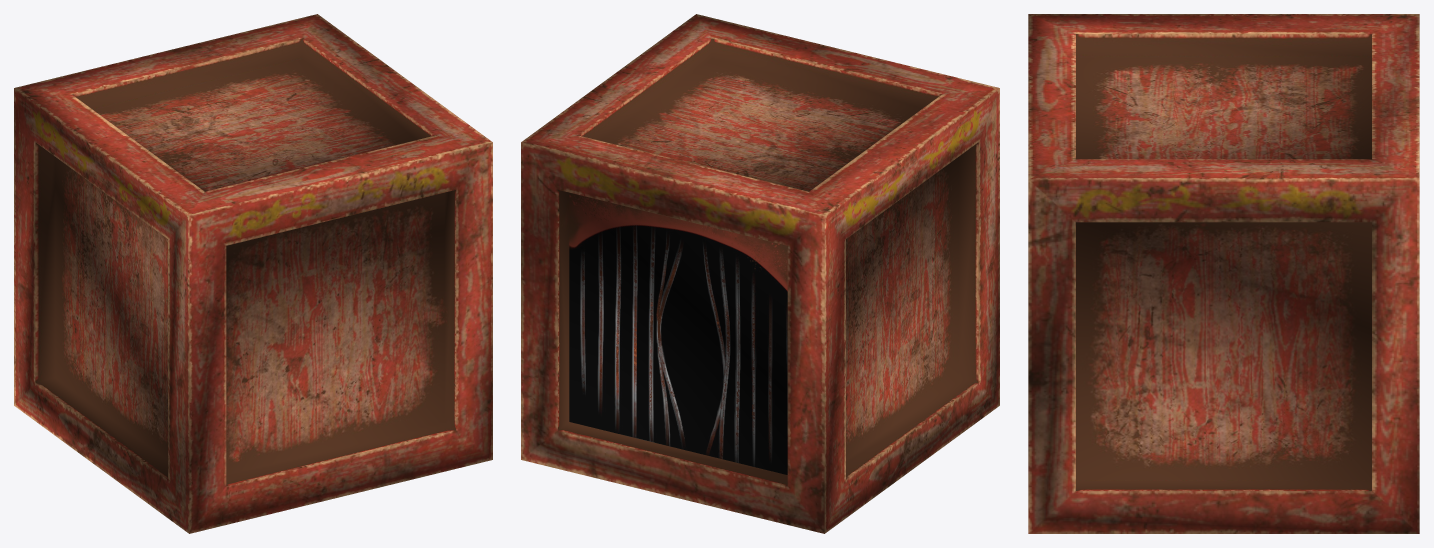
The model's file is circus_animal_crate.obj.
3 views of the same model, side by side, from view 1: azimuth 30°, elevation 25°; view 2: azimuth 150°, elevation 25°; view 3: azimuth 270°, elevation 25° (orthographic). The views are drawn at different scales.
Visible parts, largest first — view 1: defaultMaterial; view 2: defaultMaterial; view 3: defaultMaterial.
Part boxes in pixels (box(x1,y1,x2,y2)): defaultMaterial: box(14, 14, 492, 533); defaultMaterial: box(521, 14, 999, 533); defaultMaterial: box(1028, 14, 1419, 533).
Size of the model in its own units: 230 by 230 by 230.
1 material, 1 textured.
